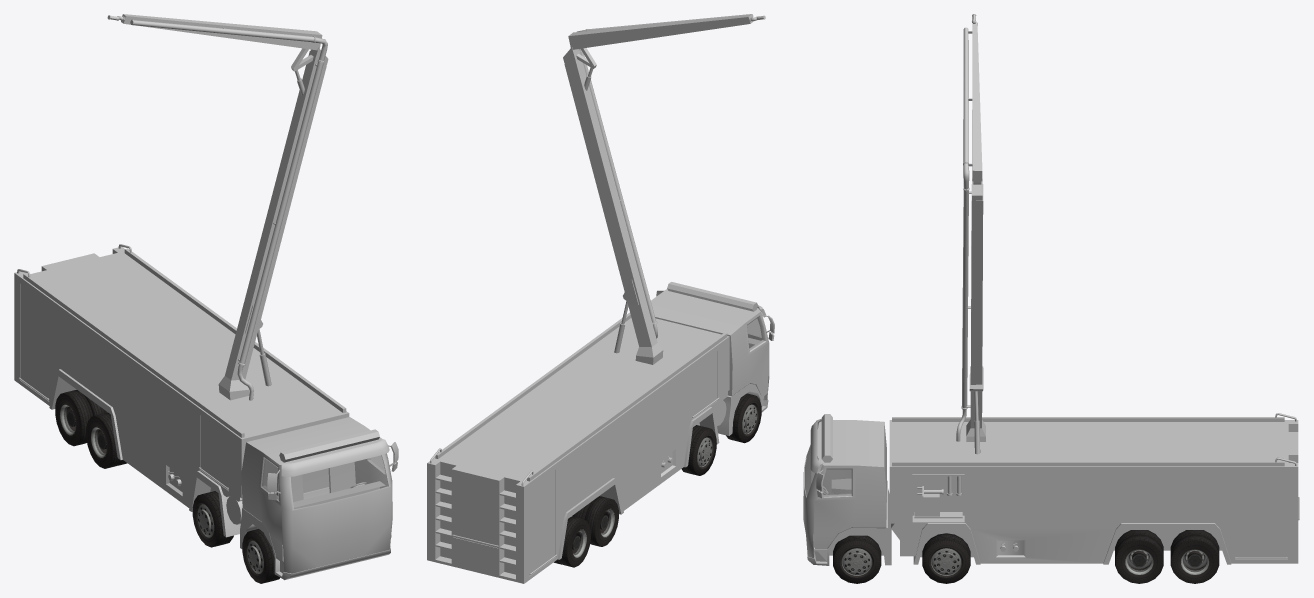
The model's file is 18migaopenxiaofengche_mol.FBX.
3 renders of one model, left to right at view 1: azimuth 30°, elevation 25°; view 2: azimuth 150°, elevation 25°; view 3: azimuth 270°, elevation 25°, orthographic. The views are drawn at different scales.
Visible parts, largest first — view 1: 18migaopenxiaofengche, 18migaopenxiaofengche02, Object01, 18migaopenxiaofengche_01, 18migaopenxiaofengche01, 04, 18mgaopenxiaofangche_lunzi02, 18mgaopenxiaofangche_lunzi03, 18mgaopenxiaofangche_lunzi01; view 2: 18migaopenxiaofengche, 18migaopenxiaofengche02, 18migaopenxiaofengche01, Object01, 18mgaopenxiaofangche_lunzi03, 18mgaopenxiaofangche_lunzi02, 04, 18mgaopenxiaofangche_lunzi01; view 3: 18migaopenxiaofengche, 18migaopenxiaofengche02, Object01, 04, 18mgaopenxiaofangche_lunzi03, 18mgaopenxiaofangche_lunzi02, 18mgaopenxiaofangche_lunzi01, 18migaopenxiaofengche01, 18migaopenxiaofengche_01.
Boxes of the visible parts, x1,y1,x2,y2 form: 18migaopenxiaofengche: (14,19,398,580); 18migaopenxiaofengche02: (218,47,328,400); Object01: (130,20,327,400); 18migaopenxiaofengche_01: (262,455,388,509); 18migaopenxiaofengche01: (107,14,322,50); 04: (55,390,106,446); 18mgaopenxiaofangche_lunzi02: (192,491,233,547); 18mgaopenxiaofangche_lunzi03: (86,412,127,468); 18mgaopenxiaofangche_lunzi01: (242,529,279,583); 18migaopenxiaofengche: (427,199,774,583); 18migaopenxiaofengche02: (563,47,663,364); 18migaopenxiaofengche01: (568,15,765,49); Object01: (577,14,753,338); 18mgaopenxiaofangche_lunzi03: (572,496,618,546); 18mgaopenxiaofangche_lunzi02: (681,425,716,475); 04: (554,516,590,567); 18mgaopenxiaofangche_lunzi01: (726,393,761,443); 18migaopenxiaofengche: (803,31,1299,565); 18migaopenxiaofengche02: (966,179,985,441); Object01: (956,27,969,441); 04: (1170,530,1219,583); 18mgaopenxiaofangche_lunzi03: (1115,530,1163,583); 18mgaopenxiaofangche_lunzi02: (922,533,970,583); 18mgaopenxiaofangche_lunzi01: (833,535,881,583); 18migaopenxiaofengche01: (972,14,982,182); 18migaopenxiaofengche_01: (804,428,851,496).
Size of the model in its own units: 4.38 by 9.56 by 10.3.
